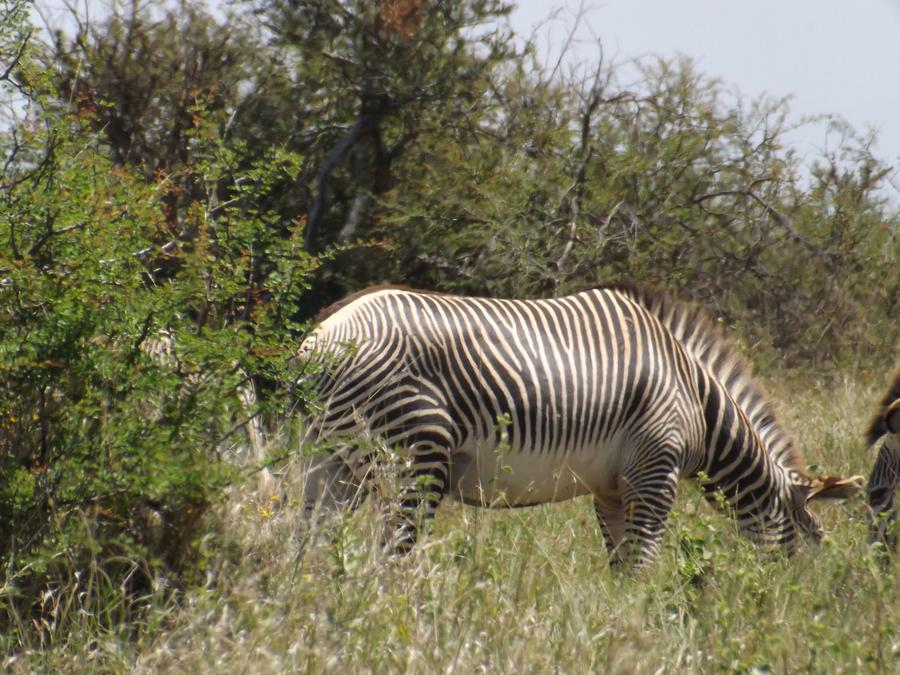zebra_grevys: (277, 272, 670, 497)
